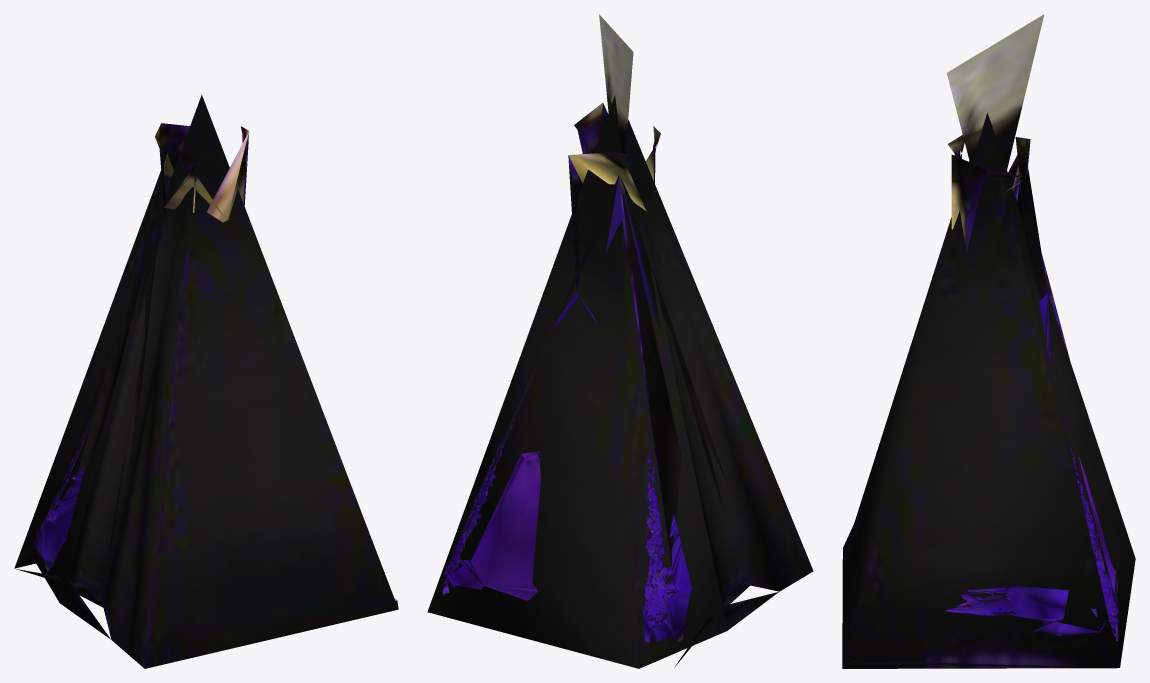
The model's file is veneno_fenda.glb.
3 views of the same model, side by side, from view 1: azimuth 30°, elevation 25°; view 2: azimuth 150°, elevation 25°; view 3: azimuth 270°, elevation 25° (orthographic).
Visible parts, largest first — view 1: geometry_0; view 2: geometry_0; view 3: geometry_0.
Part boxes in pixels (x1=…): geometry_0: x1=14, y1=94, x2=398, y2=668; geometry_0: x1=427, y1=14, x2=813, y2=668; geometry_0: x1=842, y1=14, x2=1135, y2=668.
Bounding box in the file's own units: 0.4681 × 1 × 0.4635.
Materials: 1 (1 with a texture image).
